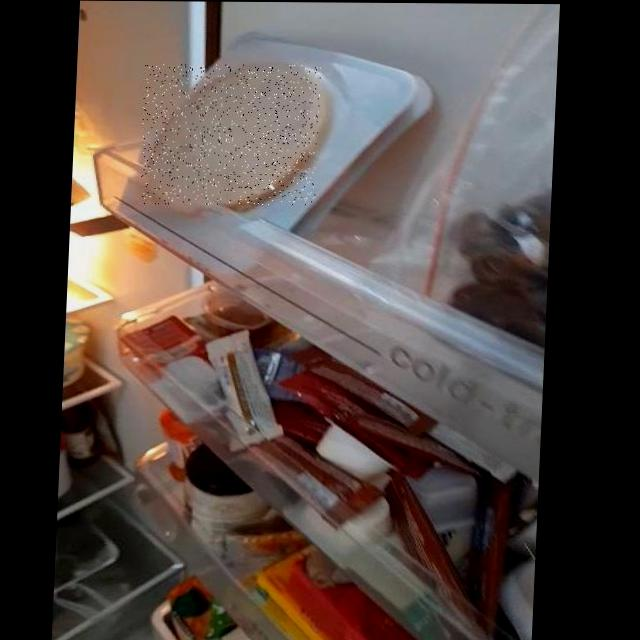salami: (139, 64, 321, 205)
